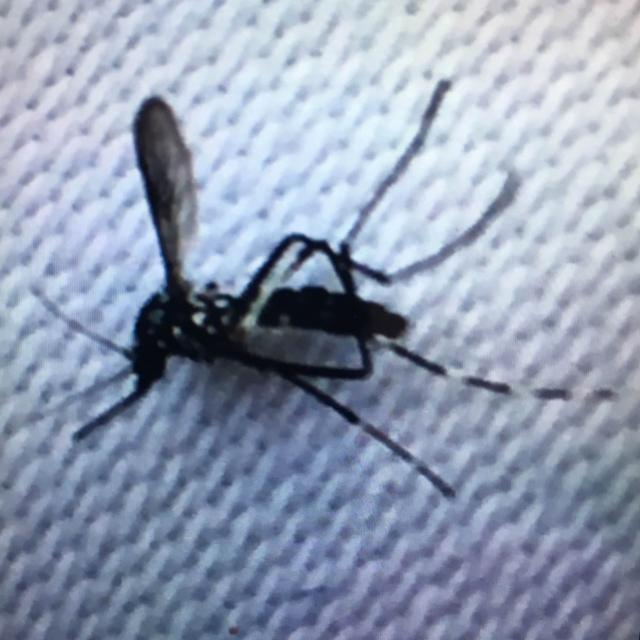albopictus: (36, 112, 544, 524)
